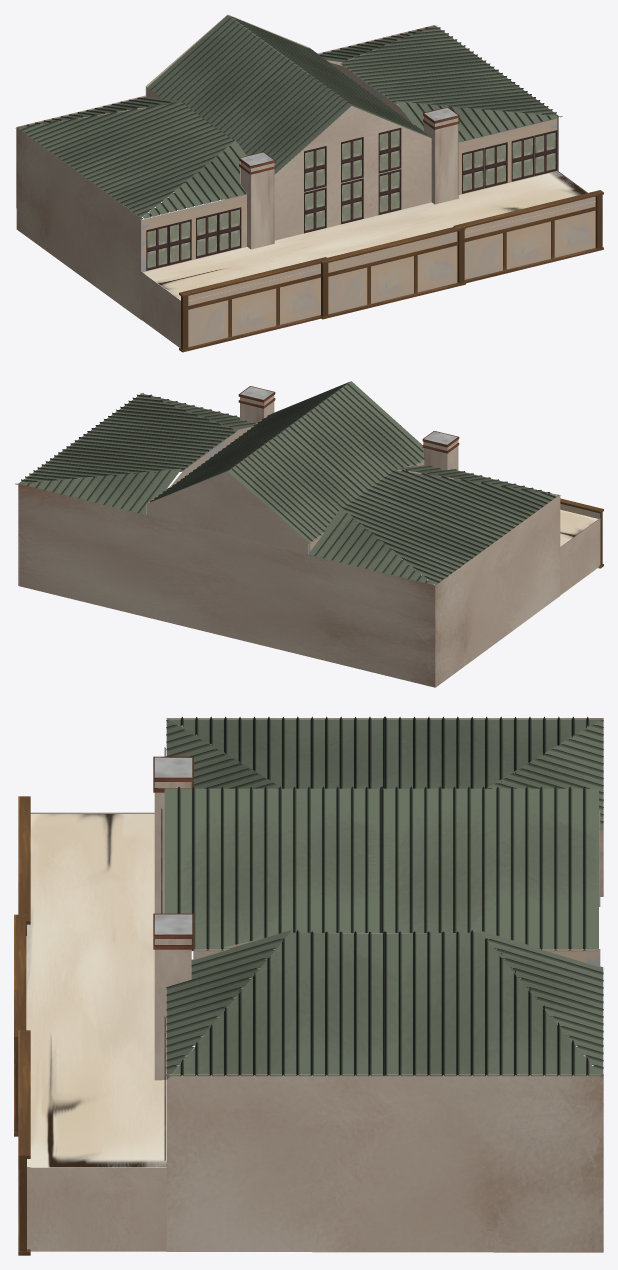
Rendered from Nha 9.fbx.
3 views of the same model, one above another, from view 1: azimuth 30°, elevation 25°; view 2: azimuth 150°, elevation 25°; view 3: azimuth 270°, elevation 25° (orthographic). The views are drawn at different scales.
Parts seen in each view (by area): view 1: Plane.052; view 2: Plane.052; view 3: Plane.052.
Part boxes in pixels (<box>): Plane.052: <box>15,14,603,352</box>; Plane.052: <box>15,381,603,687</box>; Plane.052: <box>14,716,603,1255</box>.
Bounding box in the file's own units: 3593 × 1337 × 2472.
